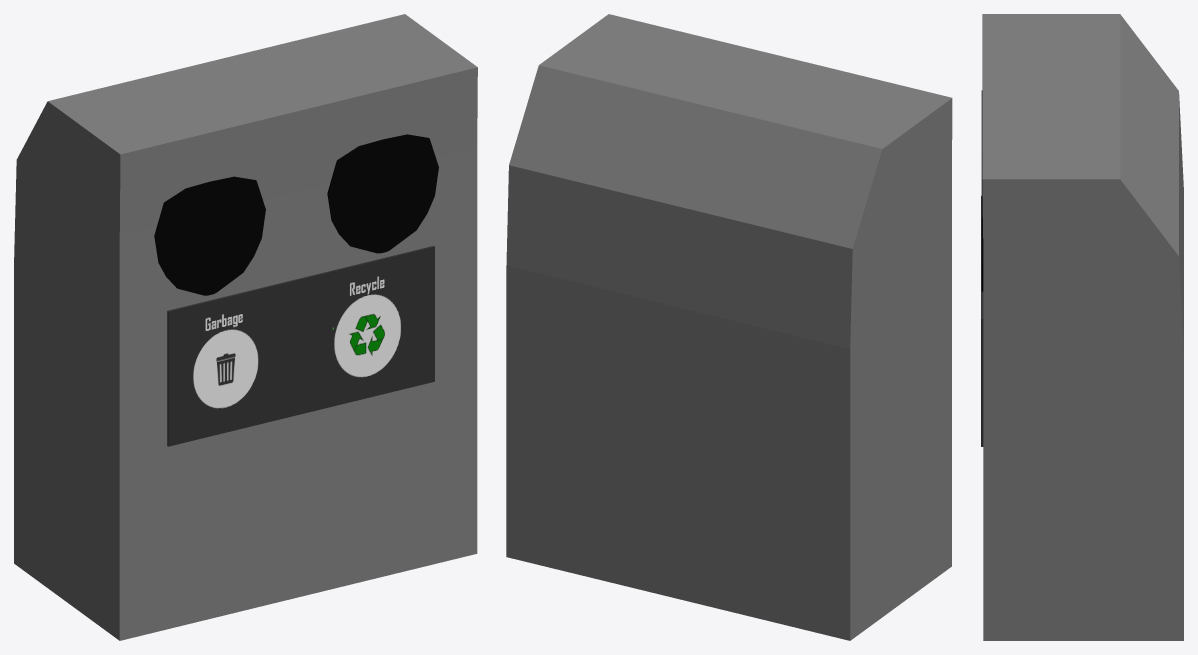
The model's file is Stage3Garbage.fbx.
The picture shows the model from 3 angles, left to right: view 1: azimuth 30°, elevation 25°; view 2: azimuth 150°, elevation 25°; view 3: azimuth 270°, elevation 25°; orthographic projection. The views are drawn at different scales.
Visible parts, largest first — view 1: pCube48, pCube49, pCylinder24; view 2: pCube48; view 3: pCube48, pCube49, pCylinder24.
Boxes of the visible parts, bbox=[...] form: pCube48: bbox=[14, 14, 477, 640]; pCube49: bbox=[167, 246, 434, 446]; pCylinder24: bbox=[154, 134, 438, 295]; pCube48: bbox=[506, 14, 952, 640]; pCube48: bbox=[982, 14, 1183, 640]; pCube49: bbox=[981, 195, 983, 446]; pCylinder24: bbox=[981, 90, 983, 291].
Bounding box in the file's own units: 0.6644 × 0.8649 × 0.3443.
3 materials, 1 textured.
